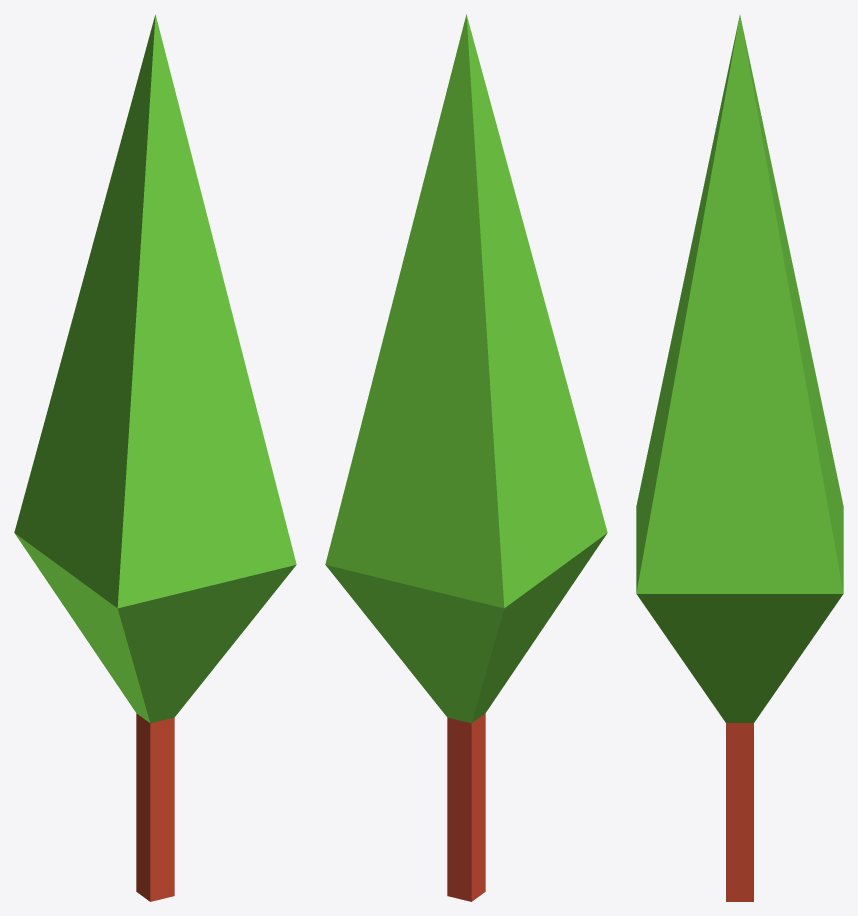
Rendered from tree 1.fbx.
3 renders of one model, left to right at view 1: azimuth 30°, elevation 25°; view 2: azimuth 150°, elevation 25°; view 3: azimuth 270°, elevation 25°, orthographic.
Parts seen in each view (by area): view 1: Cube; view 2: Cube; view 3: Cube.
Part boxes in pixels (bbox=[...]): Cube: bbox=[14, 14, 296, 901]; Cube: bbox=[325, 14, 607, 901]; Cube: bbox=[636, 15, 843, 901].
Bounding box in the file's own units: 294 × 1380 × 294.
